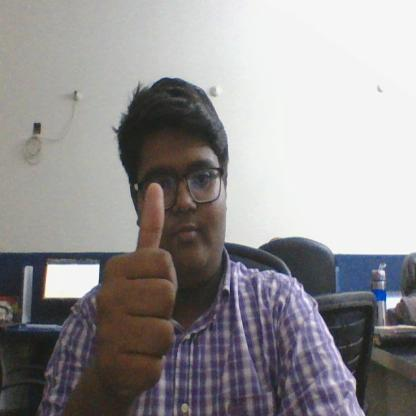thumbs-up: (100, 181, 184, 391)
